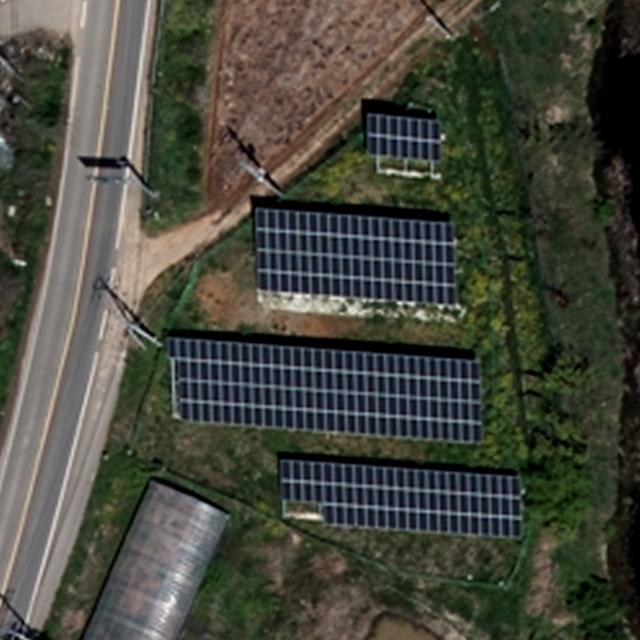panel: (164, 334, 483, 448), (251, 203, 460, 310), (278, 456, 522, 546), (364, 110, 443, 165)
